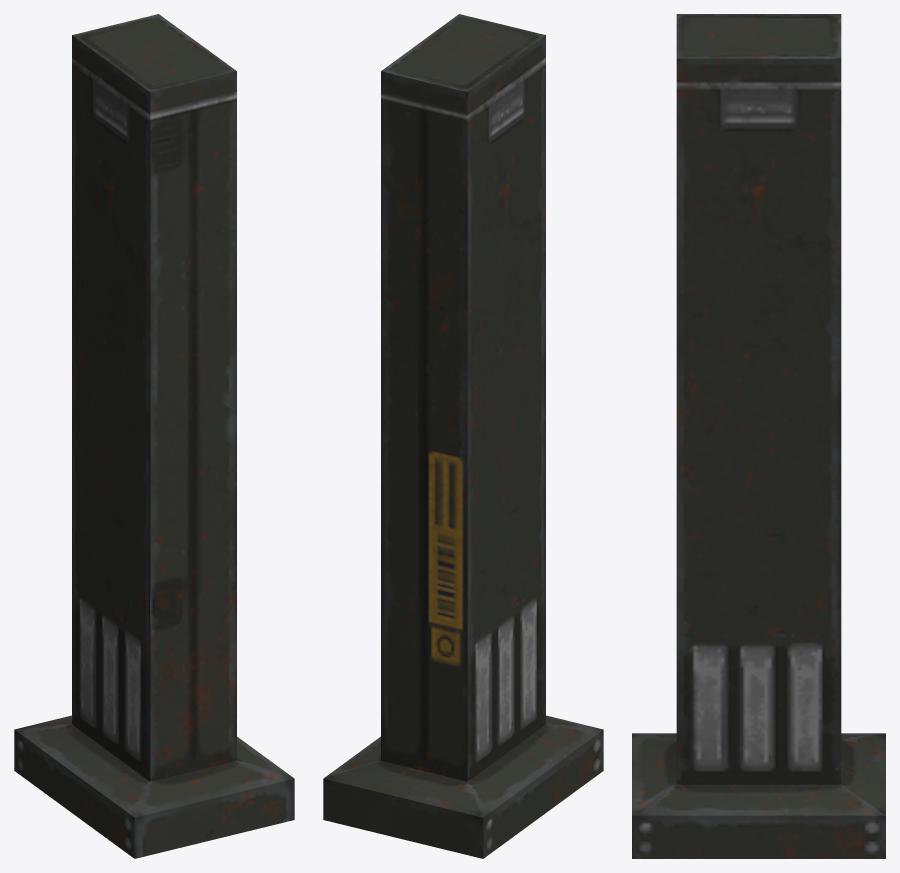
File: CP_Utility_Pillar.fbx
The picture shows the model from 3 angles, left to right: view 1: azimuth 30°, elevation 25°; view 2: azimuth 150°, elevation 25°; view 3: azimuth 270°, elevation 25°; orthographic projection. The views are drawn at different scales.
Parts seen in each view (by area): view 1: CP_Utility_Pillar; view 2: CP_Utility_Pillar; view 3: CP_Utility_Pillar.
Boxes of the visible parts, left/top/right/bottom form: CP_Utility_Pillar: left=14, top=14, right=294, bottom=858; CP_Utility_Pillar: left=323, top=14, right=603, bottom=858; CP_Utility_Pillar: left=632, top=14, right=885, bottom=858.
Size of the model in its own units: 26.56 by 118 by 34.64.
